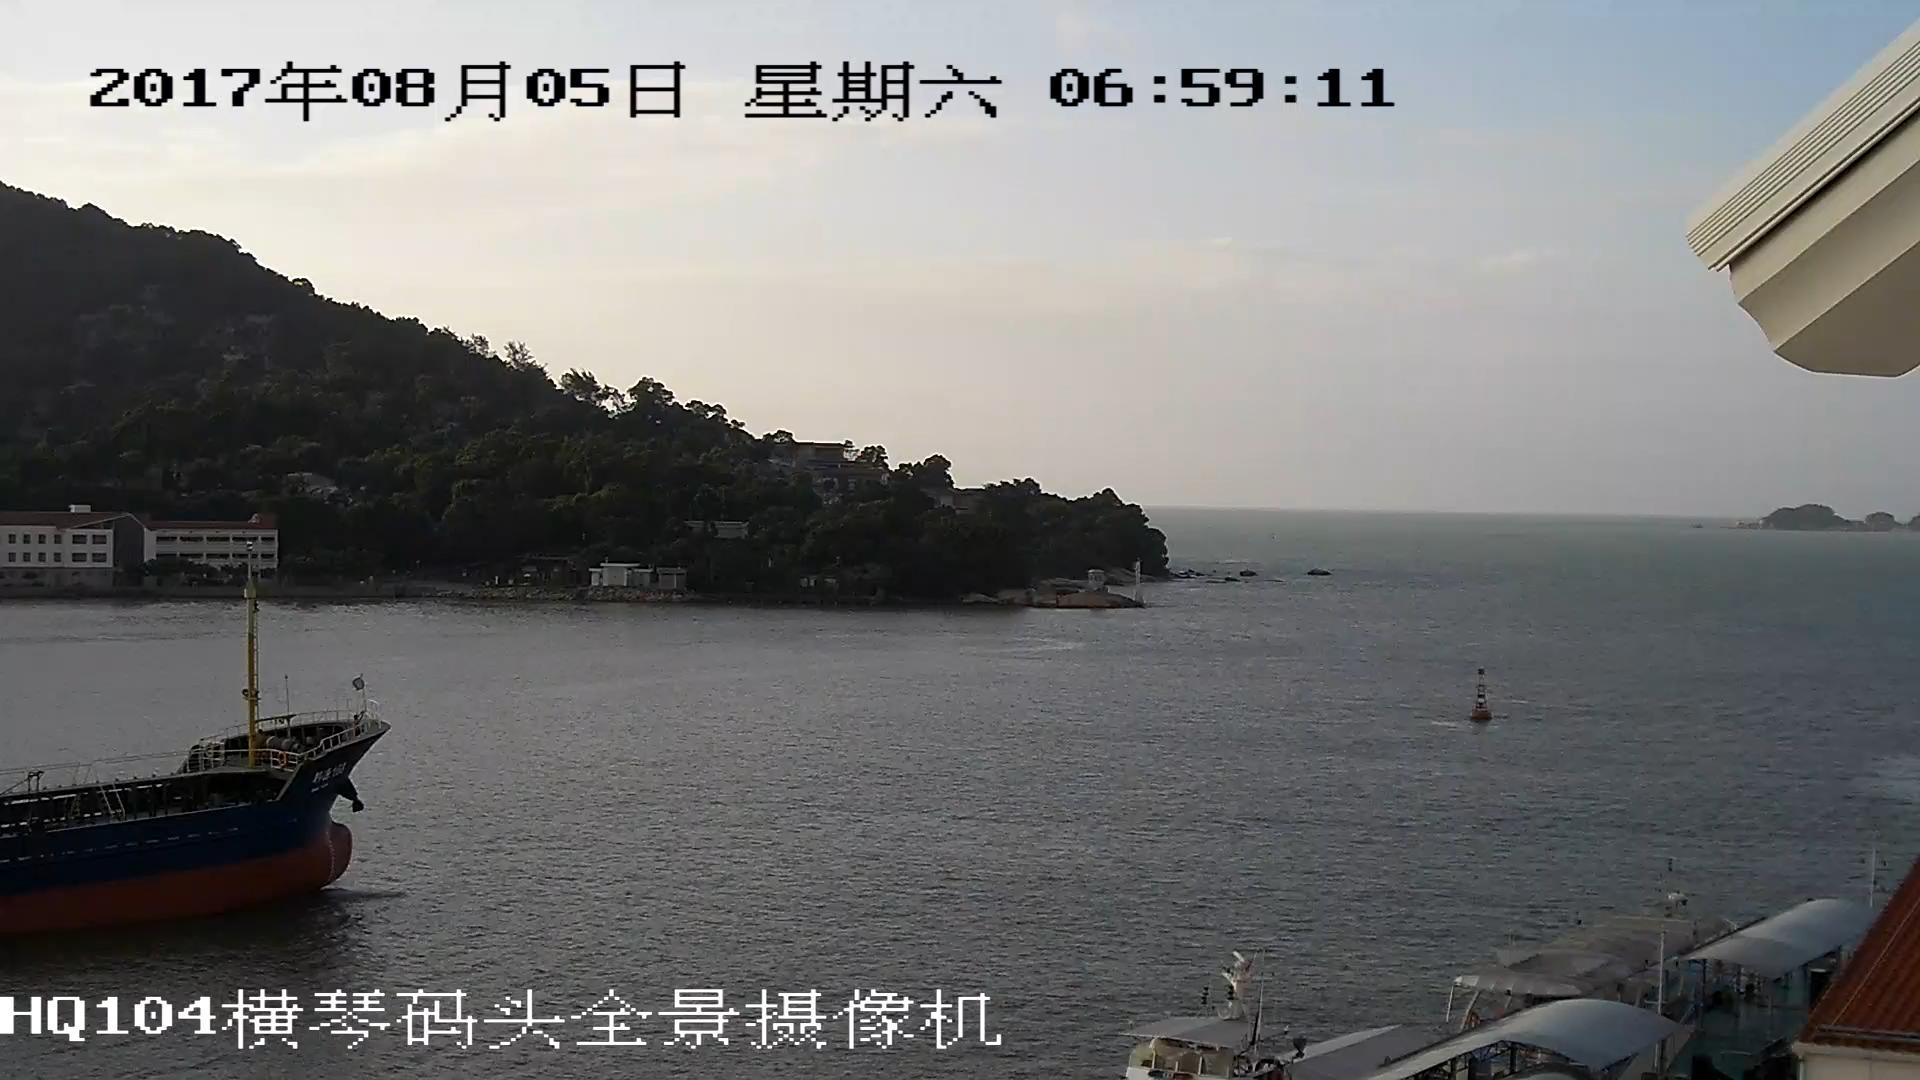Ship: (3, 568, 385, 949)
